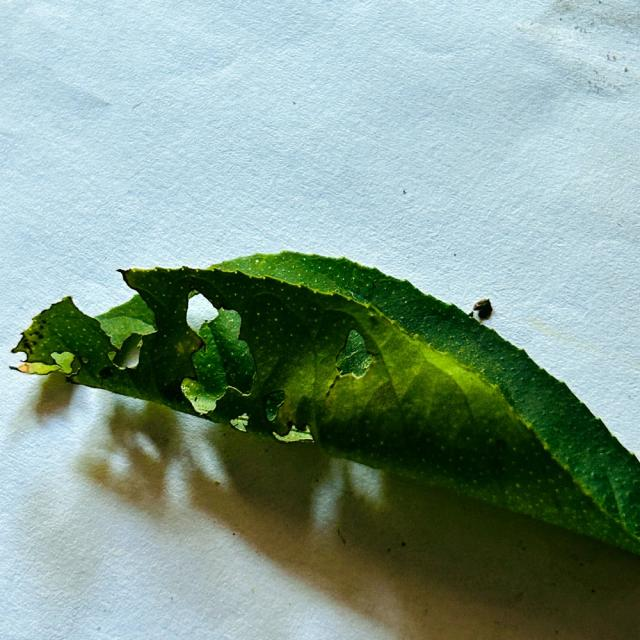Deficiency Leaf: (188, 292, 253, 364), (95, 295, 160, 357), (122, 336, 169, 398), (334, 328, 373, 379), (180, 376, 223, 415), (271, 425, 314, 443), (263, 390, 287, 422), (50, 351, 80, 375), (355, 280, 376, 303)
Lemon: (12, 252, 639, 553)
